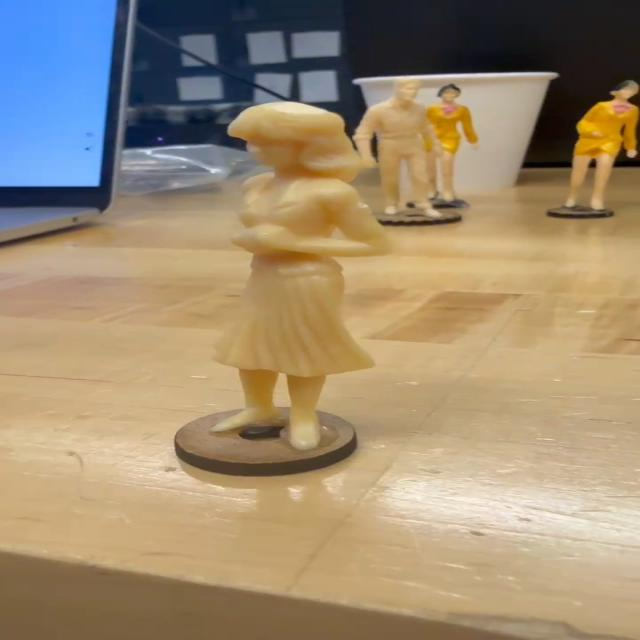Unauthorized: (224, 99, 389, 448)
